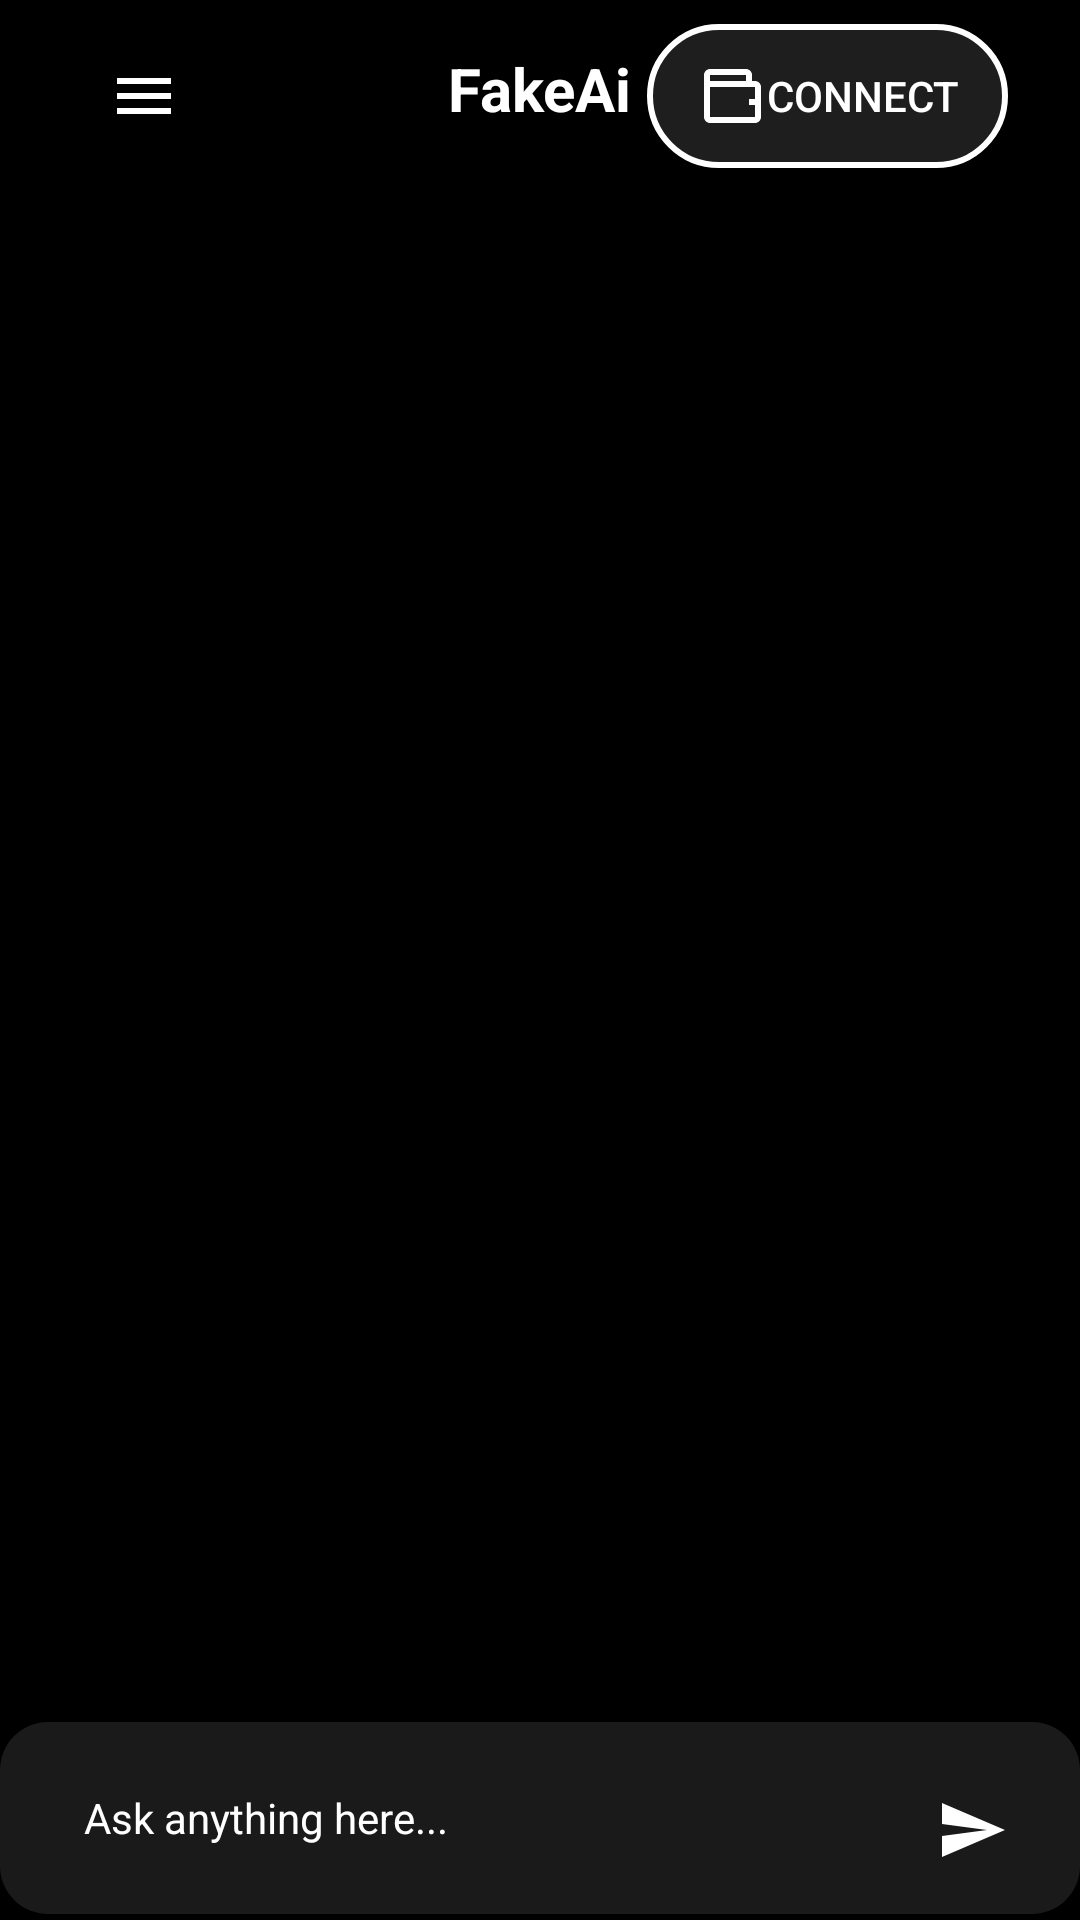

Screen size 1080 × 1920. Icon name, then its box in pixels as (x1, y1, x2, y2):
Menu: (117, 78, 171, 114)
Send: (942, 1803, 1005, 1857)
